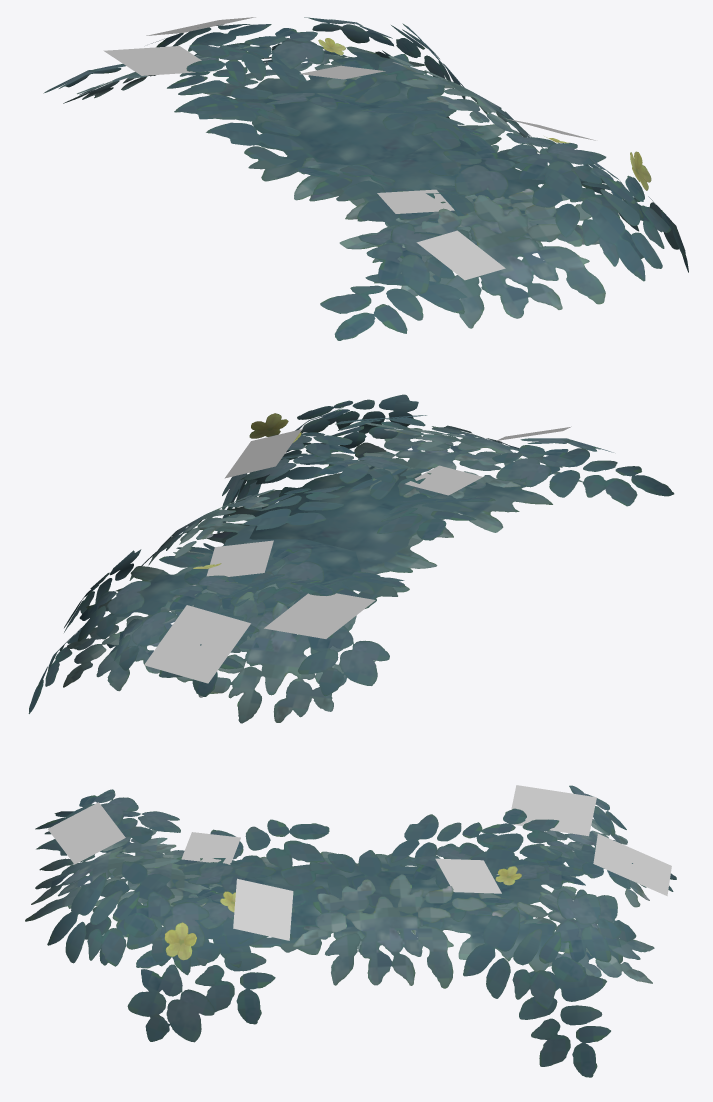
The model's file is pref_sm_beach_winter_techvegetation03_lv3.fbx.
3 views of the same model, one above another, from view 1: azimuth 30°, elevation 25°; view 2: azimuth 150°, elevation 25°; view 3: azimuth 270°, elevation 25° (orthographic). The views are drawn at different scales.
Parts seen in each view (by area): view 1: pref_sm_beach_winter_techvegetation03_lv3, sm_beach_winter_techvegetation03b_lv3; view 2: pref_sm_beach_winter_techvegetation03_lv3, sm_beach_winter_techvegetation03b_lv3; view 3: pref_sm_beach_winter_techvegetation03_lv3, sm_beach_winter_techvegetation03b_lv3.
Part boxes in pixels (x1=…): pref_sm_beach_winter_techvegetation03_lv3: x1=43, y1=17, x2=688, y2=340; sm_beach_winter_techvegetation03b_lv3: x1=103, y1=17, x2=595, y2=280; pref_sm_beach_winter_techvegetation03_lv3: x1=28, y1=394, x2=674, y2=723; sm_beach_winter_techvegetation03b_lv3: x1=144, y1=426, x2=571, y2=683; pref_sm_beach_winter_techvegetation03_lv3: x1=25, y1=785, x2=676, y2=1077; sm_beach_winter_techvegetation03b_lv3: x1=48, y1=785, x2=671, y2=940.
Size of the model in its own units: 2.77 by 1.18 by 4.4.
